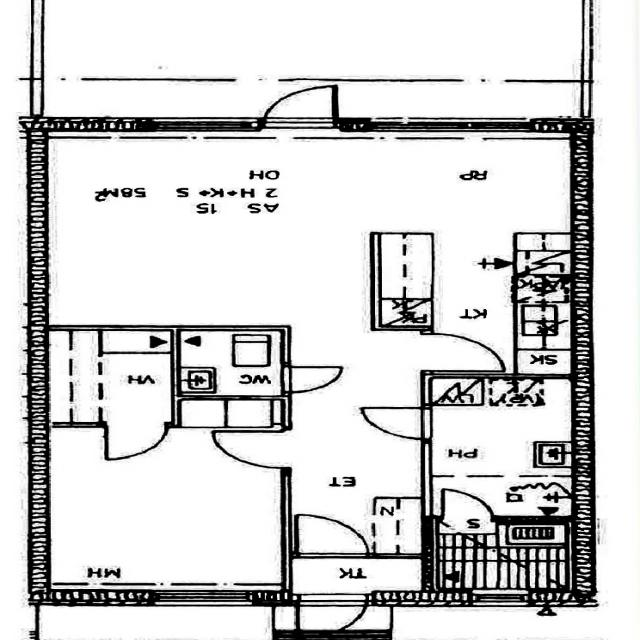door: (266, 82, 336, 131), (296, 591, 366, 640), (296, 517, 367, 558), (213, 432, 289, 466), (106, 422, 166, 457), (362, 408, 430, 437), (281, 367, 340, 392), (442, 492, 489, 523)
